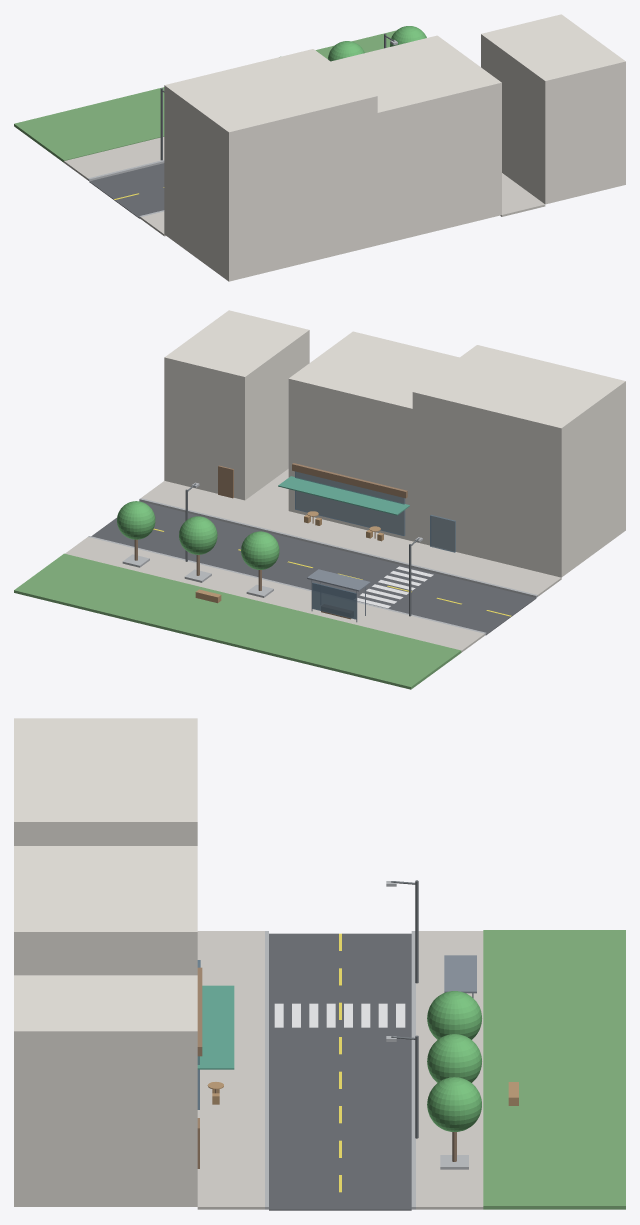
Rendered from graybox_city_block.glb.
3 renders of one model, top to bottom at view 1: azimuth 30°, elevation 25°; view 2: azimuth 150°, elevation 25°; view 3: azimuth 270°, elevation 25°, orthographic. The views are drawn at different scales.
Parts seen in each view (by area): view 1: West_Building_Body, Shophouse2_Body, Cafe_Upper_Floors, Park_Grass_Ground, Cafe_Ground_Wall, Road_Asphalt_Surface, North_Sidewalk_Pavers, Alleyway_Paving, Tree_Canopy_1, Tree_Canopy_2; view 2: West_Building_Body, Shophouse2_Body, Park_Grass_Ground, Cafe_Upper_Floors, Road_Asphalt_Surface, South_Sidewalk_Pavers, North_Sidewalk_Pavers, Cafe_Ground_Wall, Cafe_Glass_Storefront, Cafe_Awning_Canopy, South_Curb_Stone, Bus_Glass_Back (+8 smaller); view 3: Shophouse2_Body, Park_Grass_Ground, Road_Asphalt_Surface, Cafe_Upper_Floors, West_Building_Body, South_Sidewalk_Pavers, North_Sidewalk_Pavers, Cafe_Awning_Canopy, Tree_Canopy_2, Tree_Canopy_0, Tree_Canopy_1, North_Curb_Stone (+2 smaller).
Part boxes in pixels (x1,y1,x2,y2): West_Building_Body: (164, 49, 377, 281); Shophouse2_Body: (481, 14, 625, 204); Cafe_Upper_Floors: (331, 35, 501, 195); Park_Grass_Ground: (14, 30, 396, 162); Cafe_Ground_Wall: (377, 166, 501, 245); Road_Asphalt_Surface: (89, 163, 164, 218); North_Sidewalk_Pavers: (64, 137, 164, 179); Alleyway_Paving: (500, 173, 545, 216); Tree_Canopy_1: (328, 41, 364, 61); Tree_Canopy_2: (390, 26, 426, 46); West_Building_Body: (412, 345, 625, 577); Shophouse2_Body: (164, 310, 309, 500); Park_Grass_Ground: (14, 553, 461, 689); Cafe_Upper_Floors: (288, 331, 459, 491); Road_Asphalt_Surface: (91, 501, 536, 635); South_Sidewalk_Pavers: (141, 481, 561, 596); North_Sidewalk_Pavers: (65, 537, 484, 652); Cafe_Ground_Wall: (288, 462, 412, 541); Cafe_Glass_Storefront: (295, 471, 405, 535); Cafe_Awning_Canopy: (278, 476, 409, 515); South_Curb_Stone: (139, 498, 537, 597); Bus_Glass_Back: (312, 582, 356, 619); Shophouse2_Body: (14, 975, 197, 1206); Park_Grass_Ground: (483, 930, 625, 1209); Road_Asphalt_Surface: (269, 933, 411, 1210); Cafe_Upper_Floors: (14, 846, 197, 975); West_Building_Body: (14, 718, 197, 845); South_Sidewalk_Pavers: (197, 931, 264, 1209); North_Sidewalk_Pavers: (416, 931, 483, 1209); Cafe_Awning_Canopy: (197, 985, 234, 1069); Tree_Canopy_2: (427, 1077, 481, 1131); Tree_Canopy_0: (427, 991, 481, 1039); Tree_Canopy_1: (427, 1034, 481, 1082); North_Curb_Stone: (411, 931, 415, 1209).
Size of the model in its own units: 32 by 11.7 by 30.
